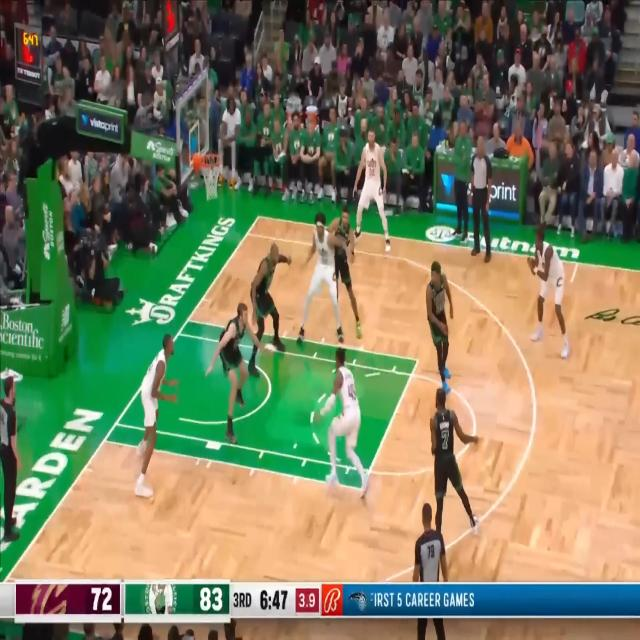Clock: (15, 26, 41, 68), (164, 0, 177, 39)
Hoop: (201, 153, 223, 201)
Overlay: (0, 578, 640, 622)
Player: (206, 299, 272, 446), (314, 346, 372, 504), (132, 332, 180, 499), (429, 385, 481, 537), (296, 213, 345, 347), (527, 222, 571, 362), (248, 243, 293, 378), (352, 126, 392, 255), (328, 204, 362, 340), (426, 260, 454, 392), (466, 135, 494, 263)
Ref: (411, 500, 449, 640), (0, 375, 23, 541)
Scoreboard: (15, 579, 321, 622)
